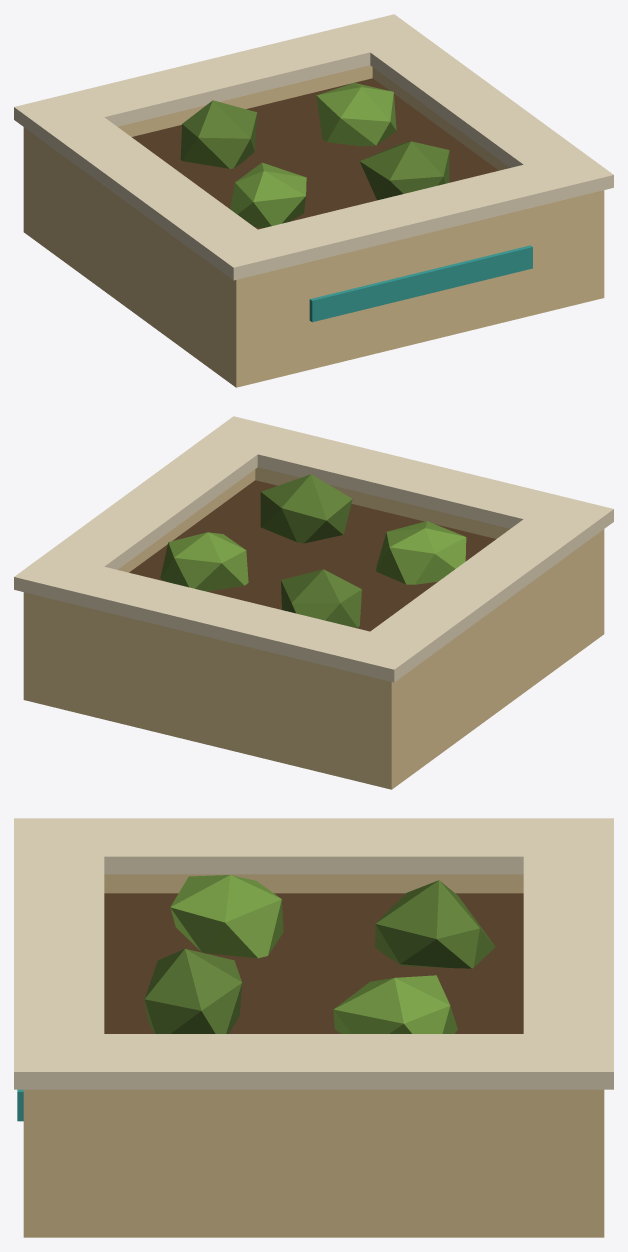
Rendered from desert_planter.glb.
The picture shows the model from 3 angles, top to bottom: view 1: azimuth 30°, elevation 25°; view 2: azimuth 150°, elevation 25°; view 3: azimuth 270°, elevation 25°; orthographic projection. The views are drawn at different scales.
Visible parts, largest first — view 1: desert_planter; view 2: desert_planter; view 3: desert_planter.
Boxes of the visible parts, left/top/right/bottom form: desert_planter: left=14, top=14, right=613, bottom=387; desert_planter: left=14, top=416, right=613, bottom=789; desert_planter: left=14, top=818, right=613, bottom=1237.
Size of the model in its own units: 1.86 by 0.6826 by 1.86.
